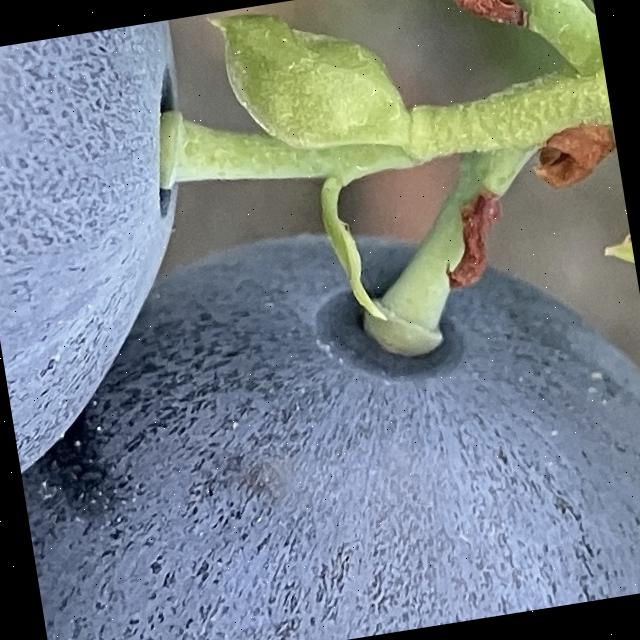Blueberries: (0, 177, 640, 640), (0, 19, 246, 515)
